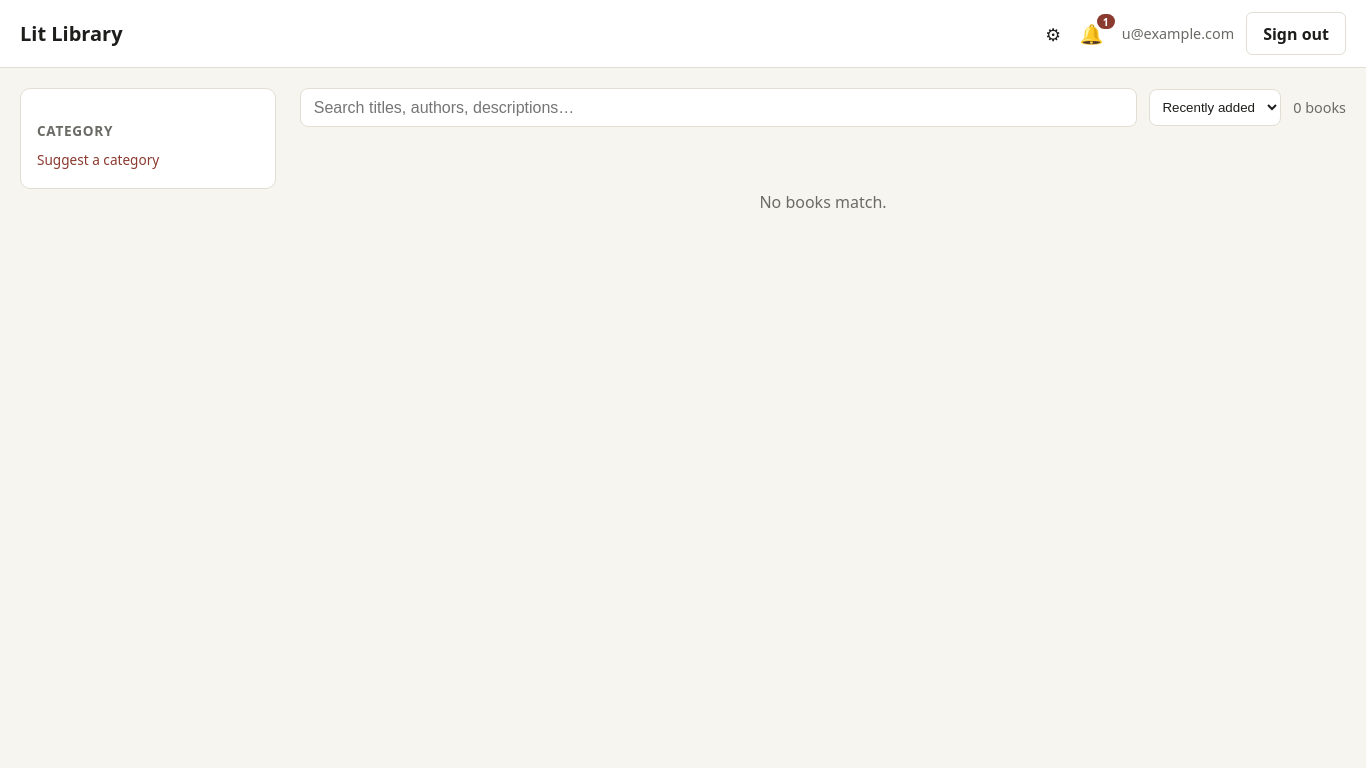
Scenario: App › shows the bell when signed in and routes to the notifications page
The width and height of the screenshot is (1366, 768).
Click the button named "Notifications" at coordinates (1091, 34), box [1073, 17, 1110, 50]
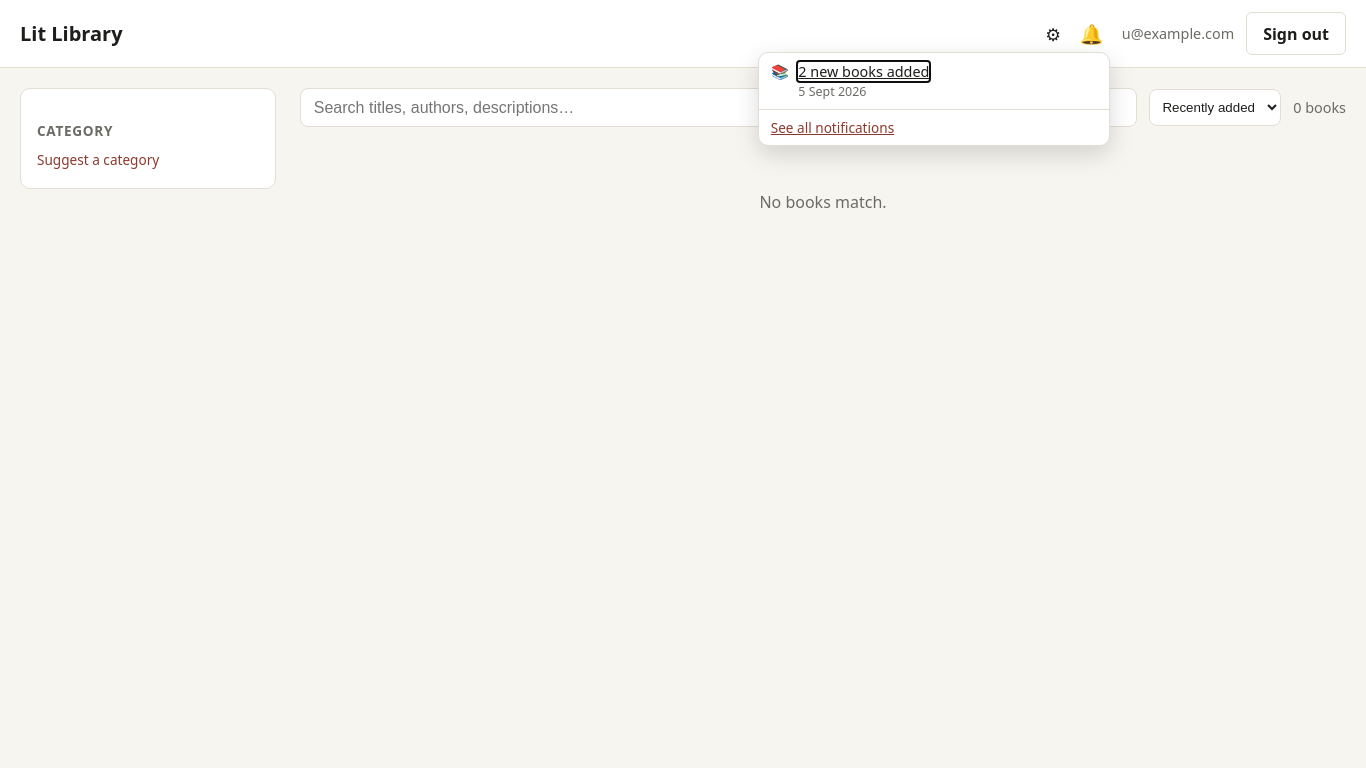
Expected: the text with class "bell-badge" is gone
Click the link "See all notifications" at coordinates (832, 128), box [771, 118, 894, 137]
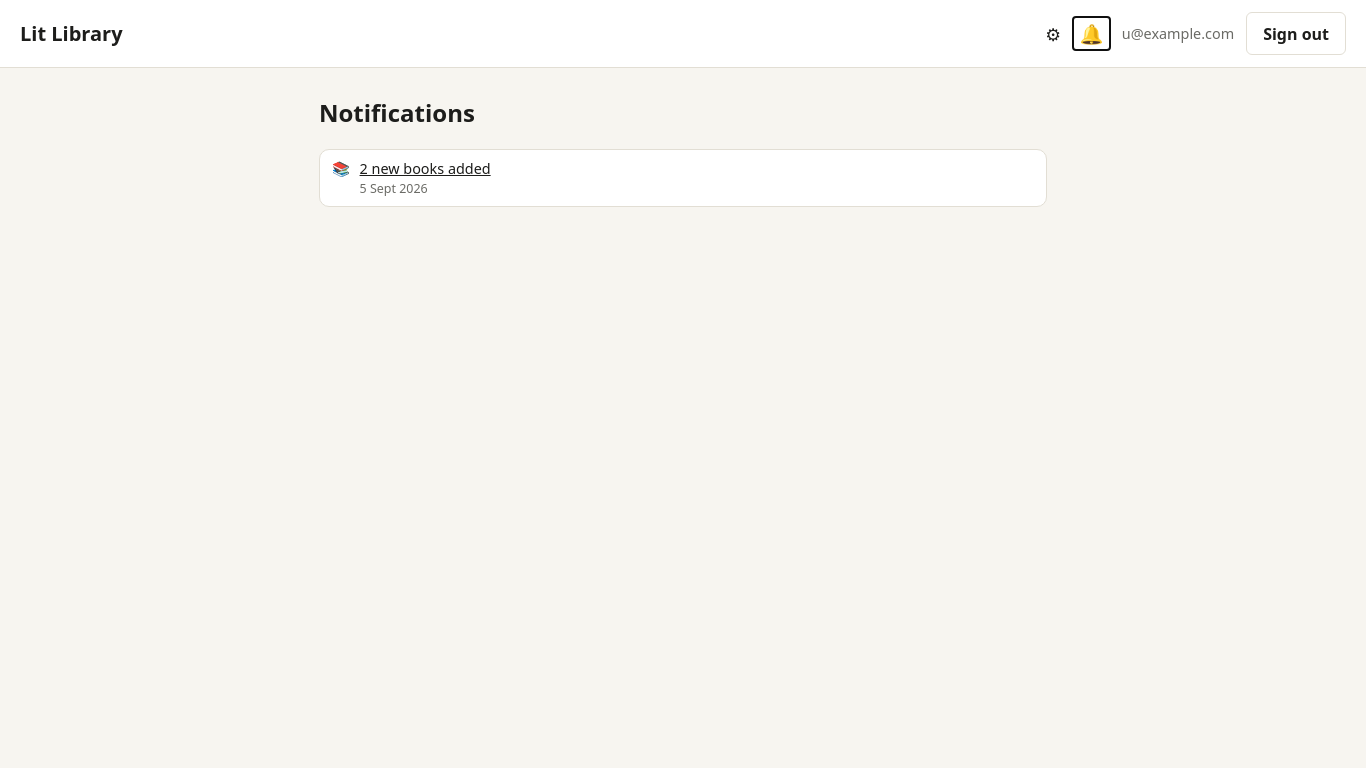
Expected: the heading "Notifications" is shown, [319, 96, 475, 129]
Click the link "Lit Library" at coordinates (71, 34), box [20, 20, 123, 47]
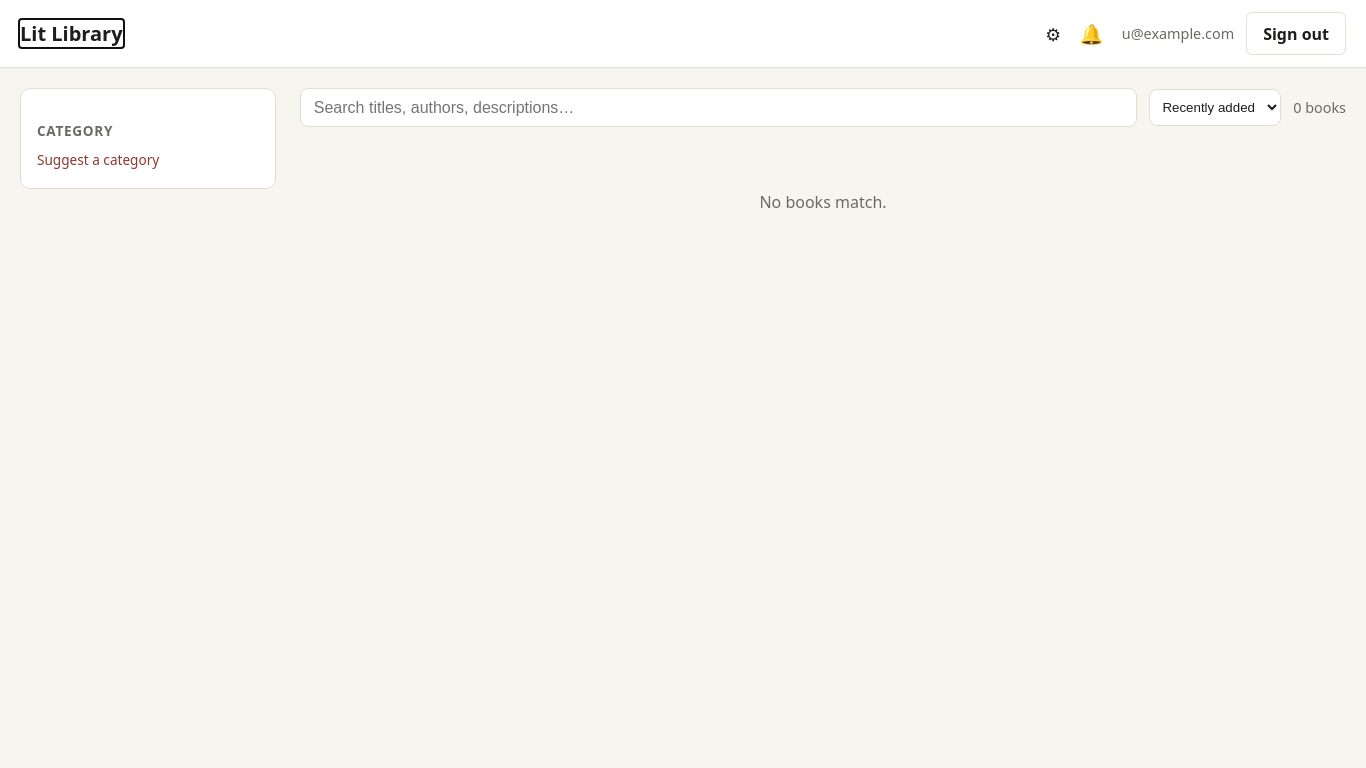
Expected: the search field is shown, [300, 88, 1137, 127]
